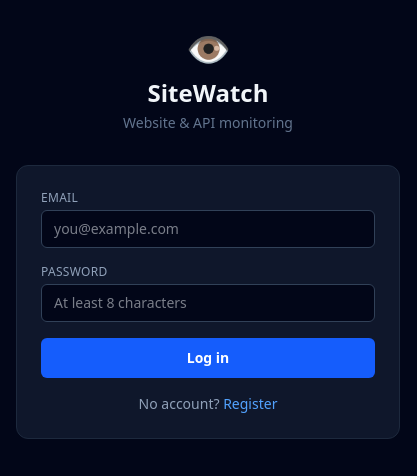
Test: LoginPage › shows validation errors for invalid input
What coordinates should you click on to do the following:
click the button "Log in"
I would click on:
 (208, 358)
Its box is [41,338,375,378].
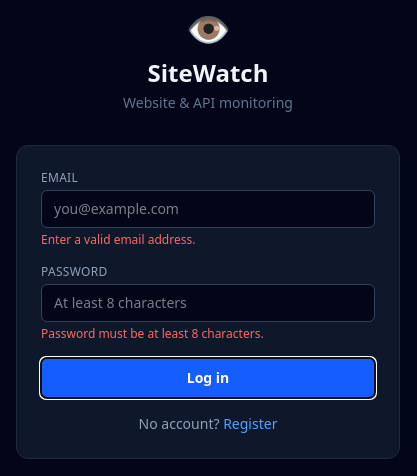
Check: the text "Enter a valid email address." is shown, box [41,231,195,248]
Check: the text "Password must be at least 8 characters." is shown, box [41,325,264,342]
